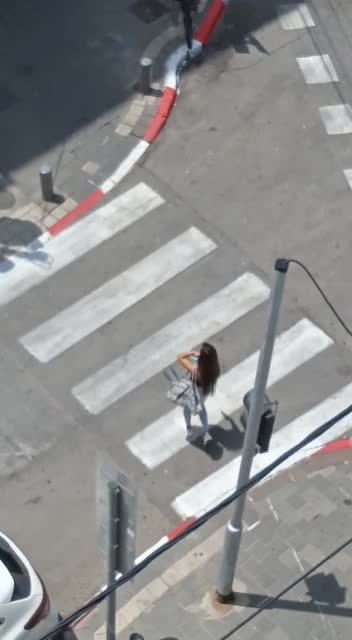crosswalk: (1, 177, 334, 515)
person: (166, 326, 225, 453)
